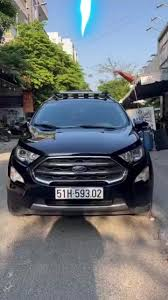Bien-so: (54, 188, 104, 199)
